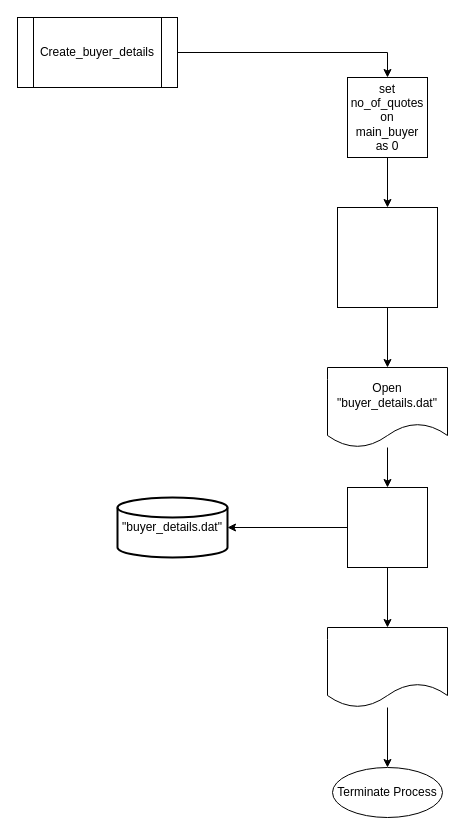
This 465x835 diagram has some shape labels left out. The shapes that lost their labels are listed below. From the top down, each one's centre as x and y in pixels, then its label:
(x=387, y=257): Copy main_buyer name and residence and userID from main_acc
(x=387, y=527): Write main_buyer details into FILE
(x=387, y=667): Close "buyer_details.dat"
